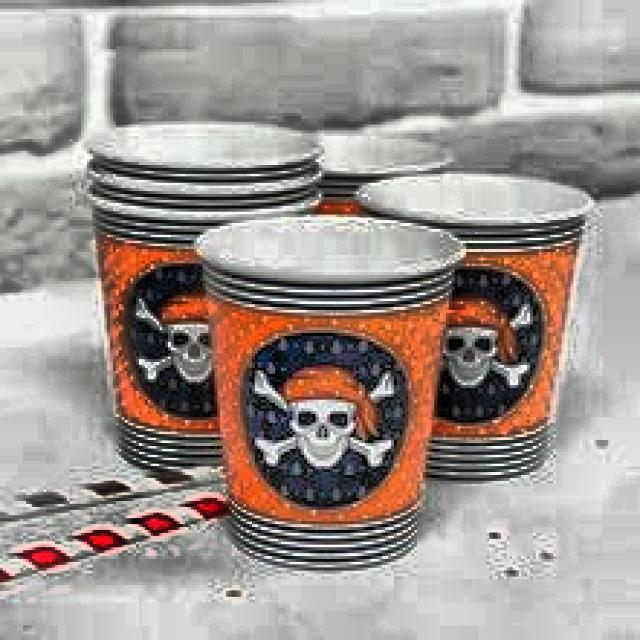Cup: (202, 203, 446, 575), (360, 155, 606, 512), (86, 124, 318, 477)
